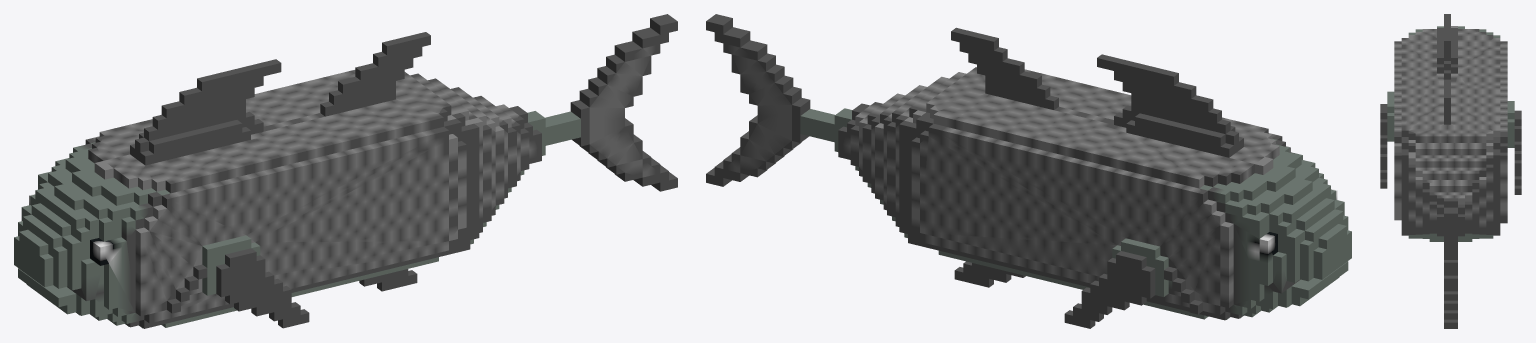
Rendered from Modell_Fisch1.dae.
The picture shows the model from 3 angles, left to right: view 1: azimuth 30°, elevation 25°; view 2: azimuth 150°, elevation 25°; view 3: azimuth 270°, elevation 25°; orthographic projection. The views are drawn at different scales.
Parts seen in each view (by area): view 1: modell_fisch1.bigfish; view 2: modell_fisch1.bigfish; view 3: modell_fisch1.bigfish.
Part boxes in pixels (<box>): modell_fisch1.bigfish: <box>14,14,677,328</box>; modell_fisch1.bigfish: <box>706,14,1351,328</box>; modell_fisch1.bigfish: <box>1380,14,1521,328</box>.
Size of the model in its own units: 7.3 by 2 by 2.8.
Materials: 1 (1 with a texture image).
